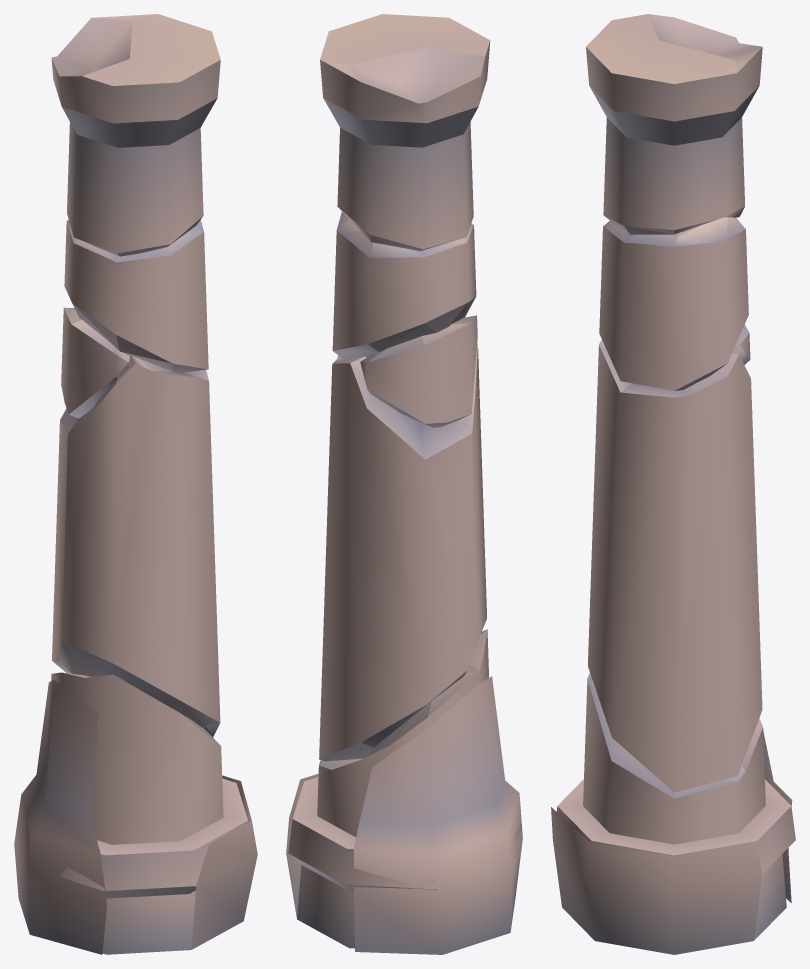
File: RoundPillar.gltf
The picture shows the model from 3 angles, left to right: view 1: azimuth 30°, elevation 25°; view 2: azimuth 150°, elevation 25°; view 3: azimuth 270°, elevation 25°; orthographic projection.
Parts seen in each view (by area): view 1: RoundPillarStaticMesh; view 2: RoundPillarStaticMesh; view 3: RoundPillarStaticMesh.
Part boxes in pixels (left/top/right/bottom): RoundPillarStaticMesh: left=14, top=14, right=257, bottom=954; RoundPillarStaticMesh: left=286, top=14, right=522, bottom=954; RoundPillarStaticMesh: left=551, top=14, right=795, bottom=954.
Size of what is drawn, in the model's own units: 1.89 by 7.22 by 1.86.
